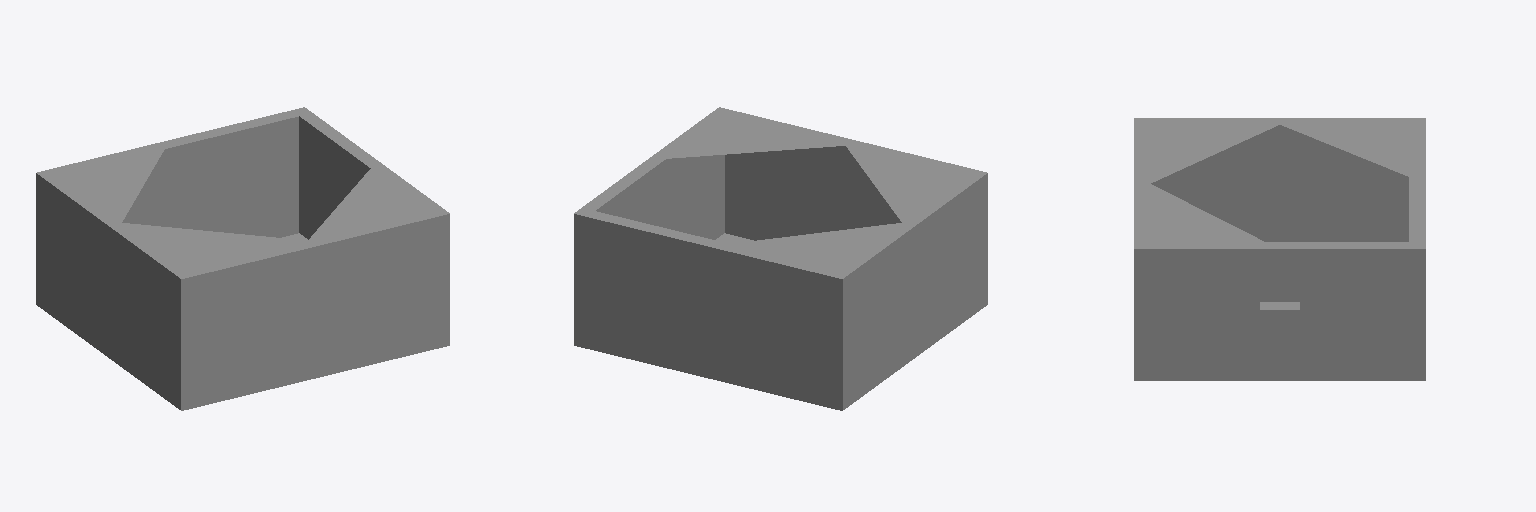
Rendered from kitchen_wooden_cuisine_box.obj.
3 renders of one model, left to right at view 1: azimuth 30°, elevation 25°; view 2: azimuth 150°, elevation 25°; view 3: azimuth 270°, elevation 25°, orthographic.
Parts seen in each view (by area): view 1: Cube.001; view 2: Cube.001; view 3: Cube.001.
Part boxes in pixels (x1,y1,x2,y2): Cube.001: (36, 107, 449, 410); Cube.001: (574, 107, 987, 410); Cube.001: (1134, 118, 1425, 380).
Size of the model in its own units: 2.09 by 0.8939 by 1.79.